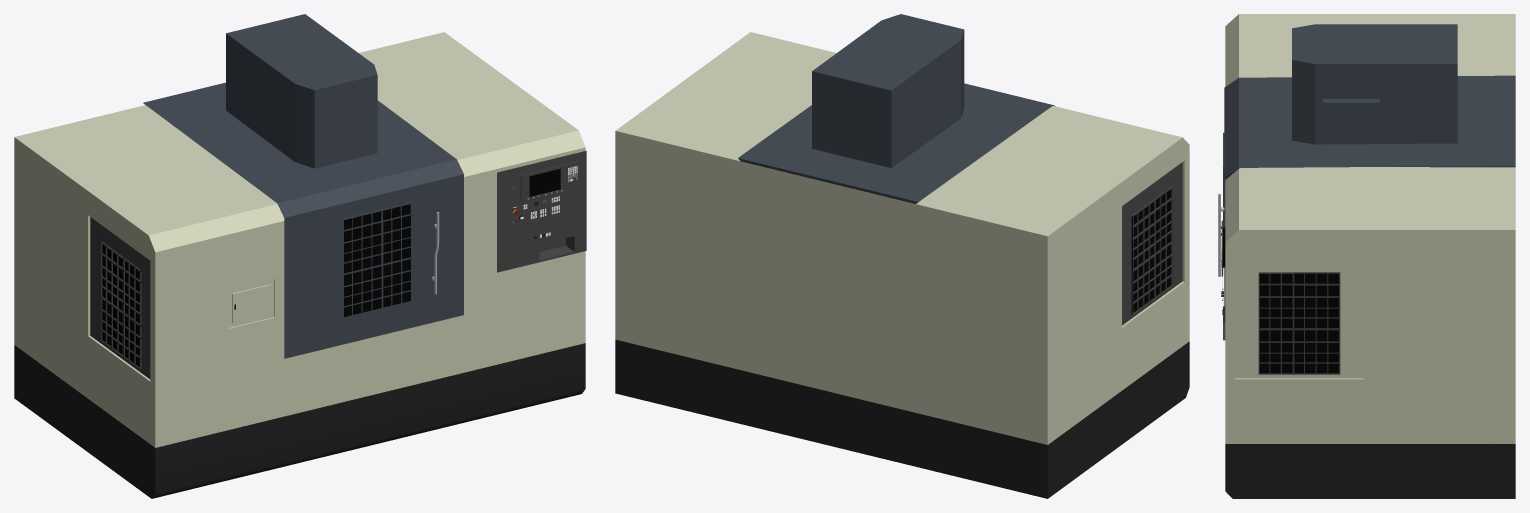
The model's file is CNCC.glb.
3 renders of one model, left to right at view 1: azimuth 30°, elevation 25°; view 2: azimuth 150°, elevation 25°; view 3: azimuth 270°, elevation 25°, orthographic. The views are drawn at different scales.
Size of the model in its own units: 3.09 by 2.34 by 1.8.
